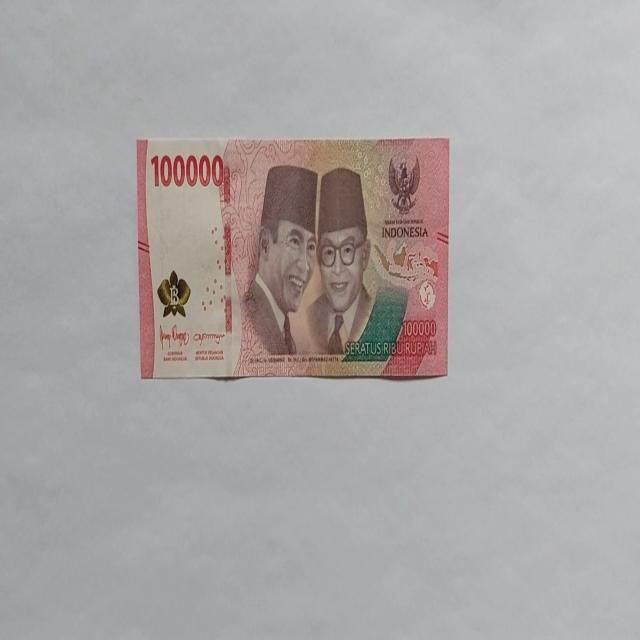seratus ribu rupiah: (137, 135, 450, 381), (304, 166, 376, 356)
